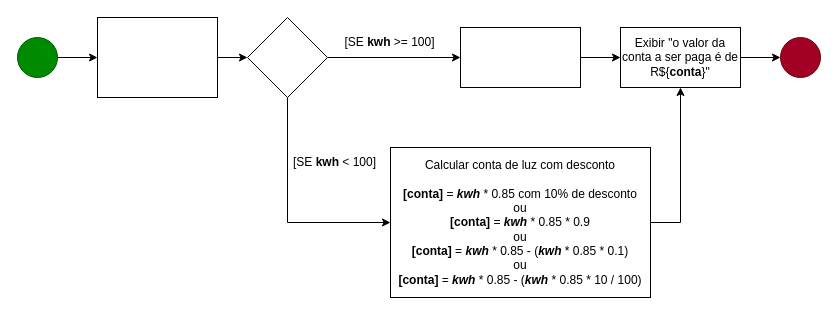
This 838x315 diagram has some shape labels left out. Here are the shapes that lost their labels. From the top down, the centre of each, then its label:
At point (157, 57): "Receber quantidade de KWh consumida no mês [kwh]".
At point (520, 57): "Calcular conta de luz [conta] = kwh * 0.85".
